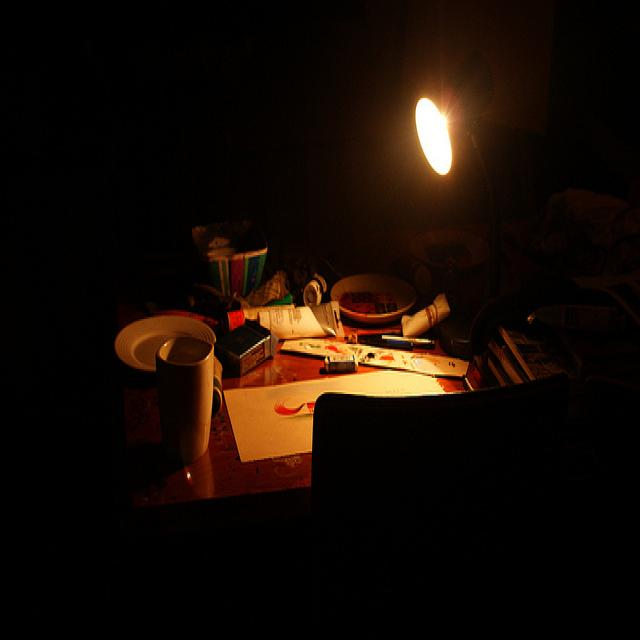Cup: (159, 325, 228, 469)
Table: (35, 207, 640, 544)
chair: (309, 379, 640, 640)
